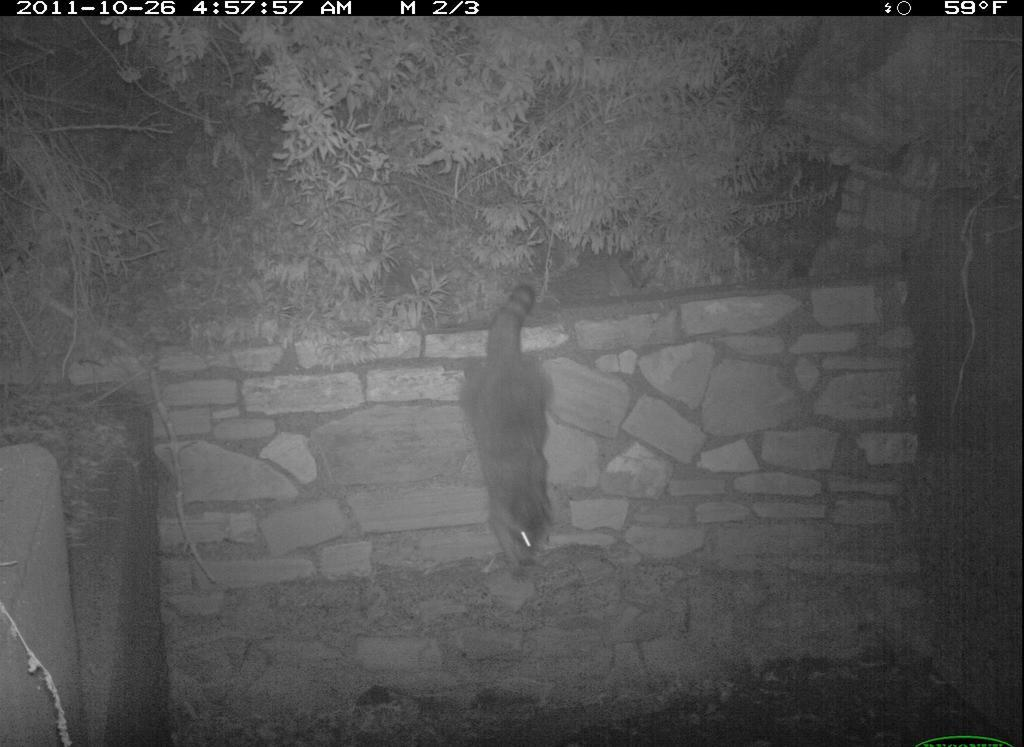raccoon: (461, 275, 582, 592)
